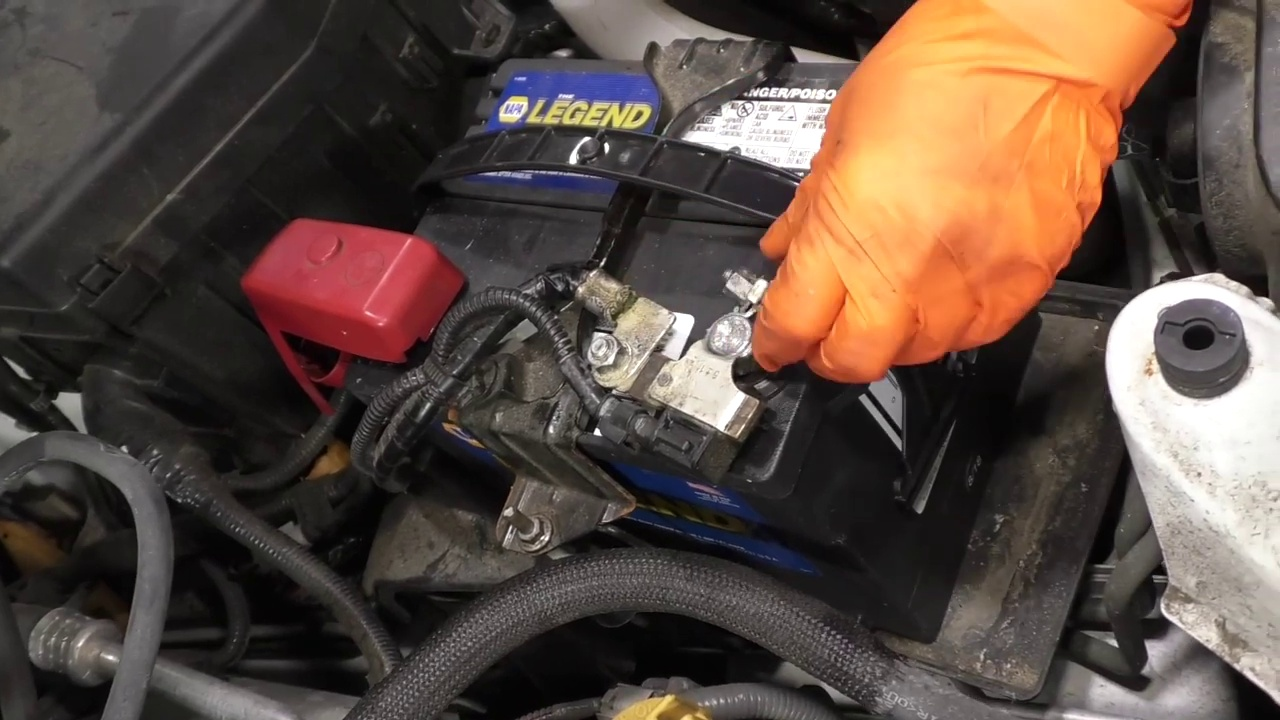battery: (327, 58, 897, 494)
neg_connected: (636, 281, 770, 466)
neg_touched: (647, 213, 881, 472)
pos_connected: (220, 209, 455, 429)
